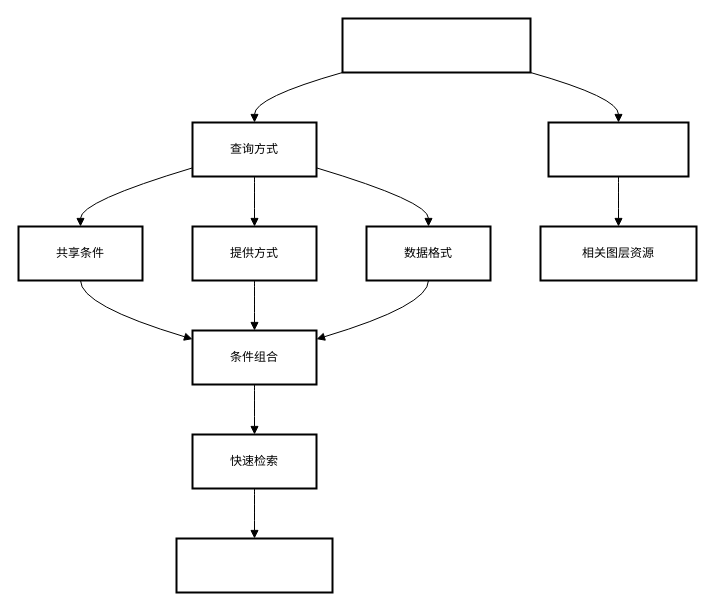
Some shapes in this 714 by 610 pixel diagram are drawn without their labels. The shapes that lost their labels are listed below. From the top down, each one's centre as x and y in pixels, then its label:
At point (436, 45): "图层目录搜索组件".
At point (618, 149): "关键词搜索".
At point (254, 565): "图层资源信息".
